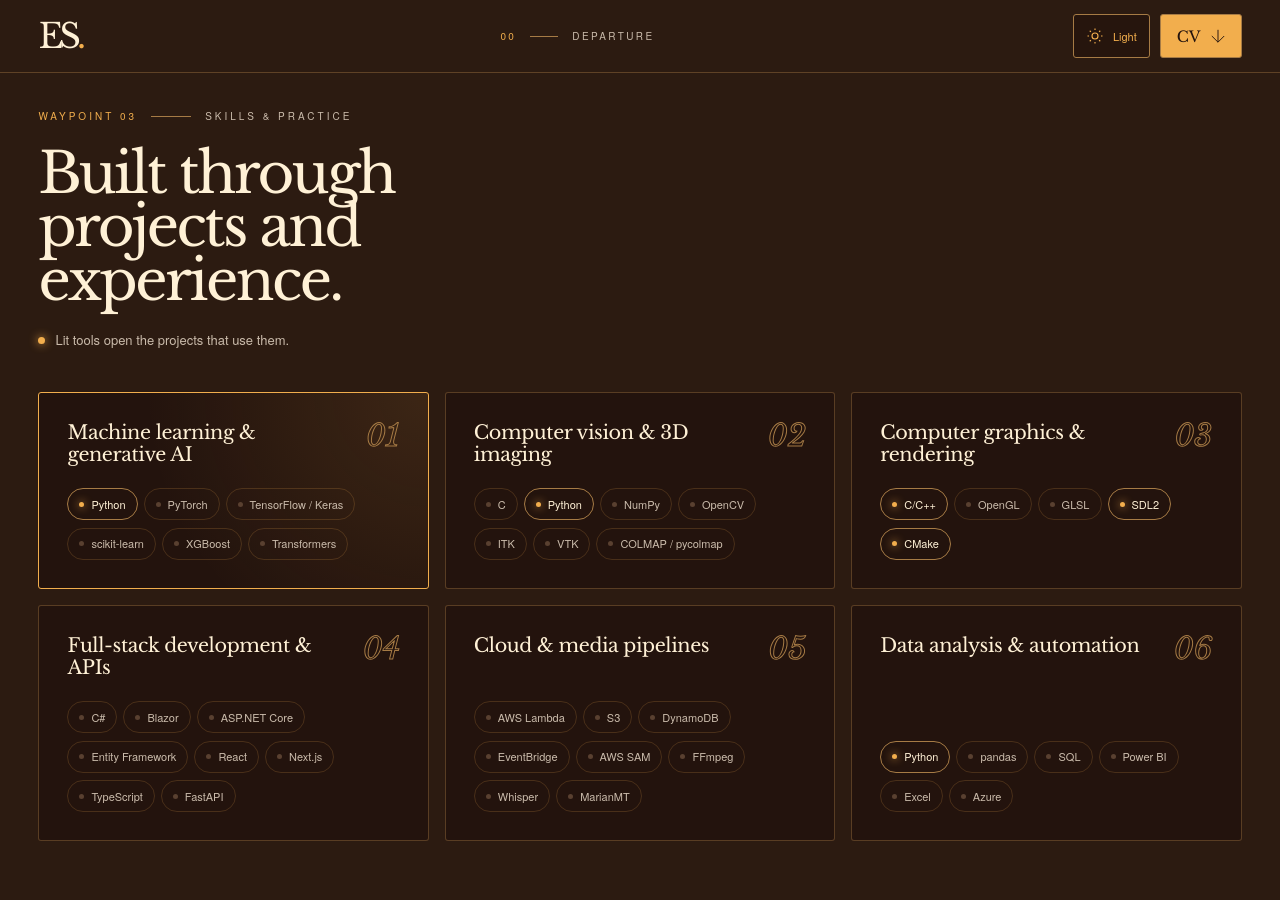
hovering a skill card or a matrix row activates the same area
The width and height of the screenshot is (1280, 900).
(page scrolled)
Hover over the element that starts with "Computer graphics & rendering" at (1046, 490), box [851,392,1242,589]
(page scrolled)
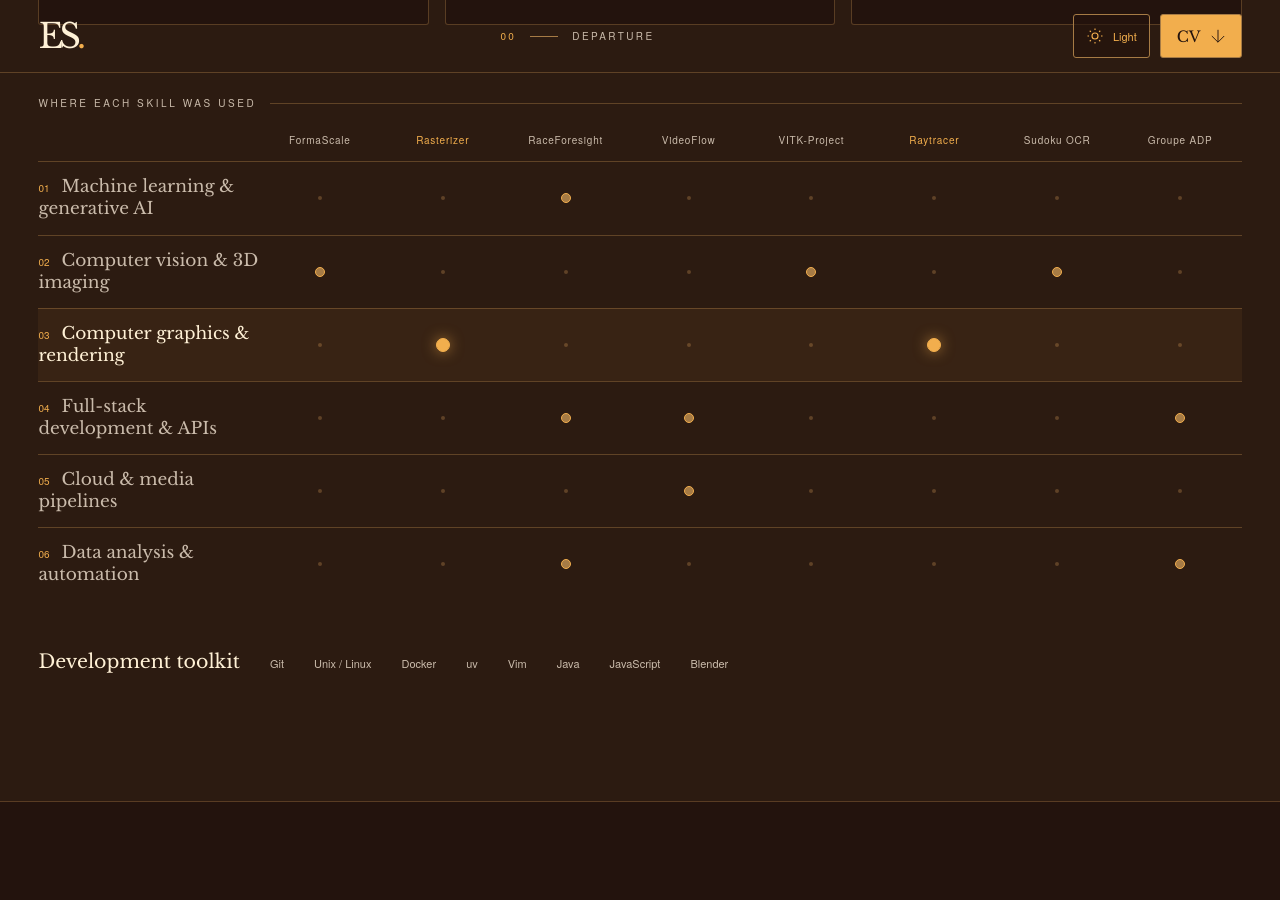
Now the row "03Computer graphics & rendering" has class "is-active", box [38,308,1242,381]
Hover over the row "05Cloud & media pipelines" at (640, 491), box [38,454,1242,527]
(page scrolled)
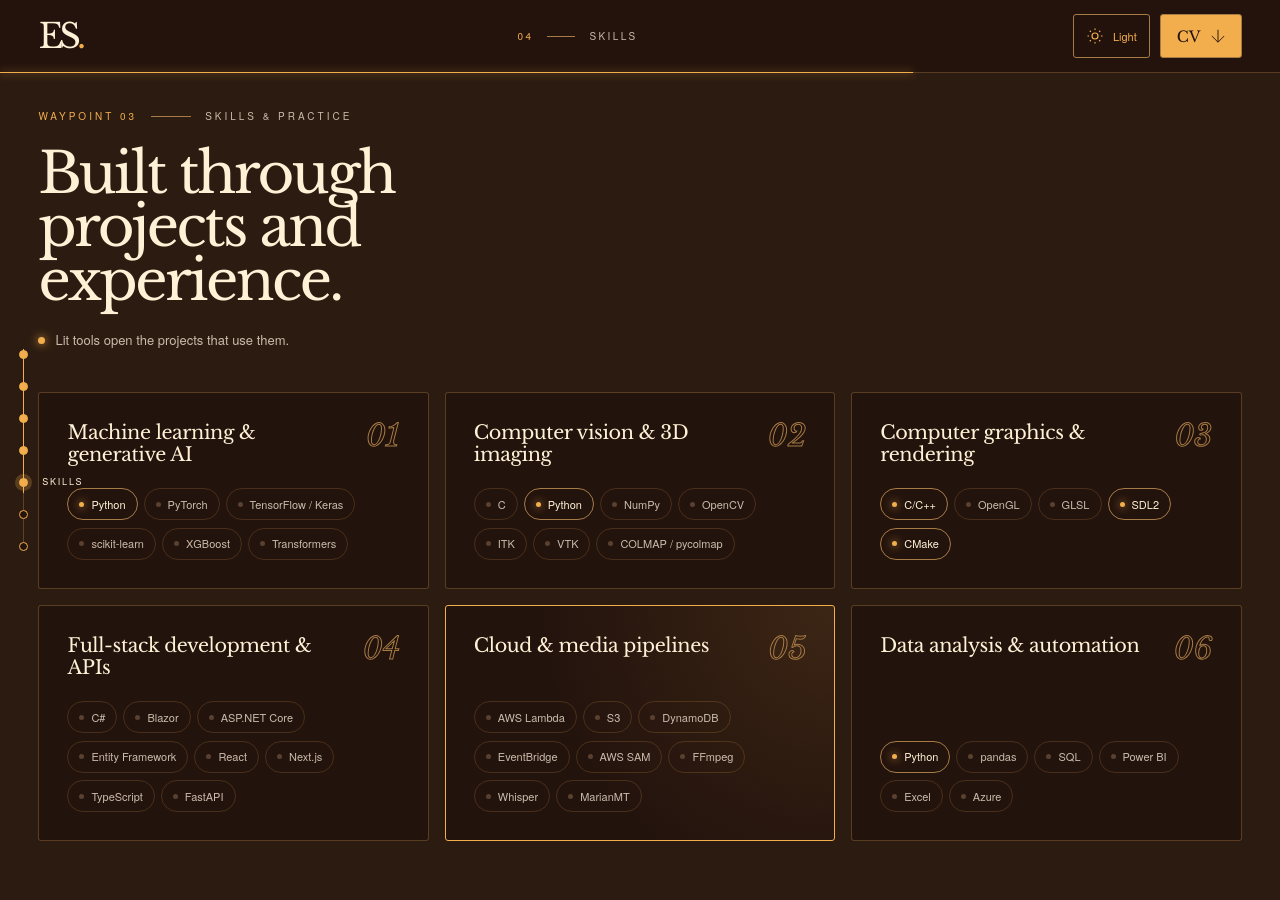
Now the element that starts with "Cloud & media pipelines" has class "is-active", box [445,605,835,841]
Now the element that starts with "Computer graphics & rendering" does not have class "is-active", box [851,392,1242,589]
